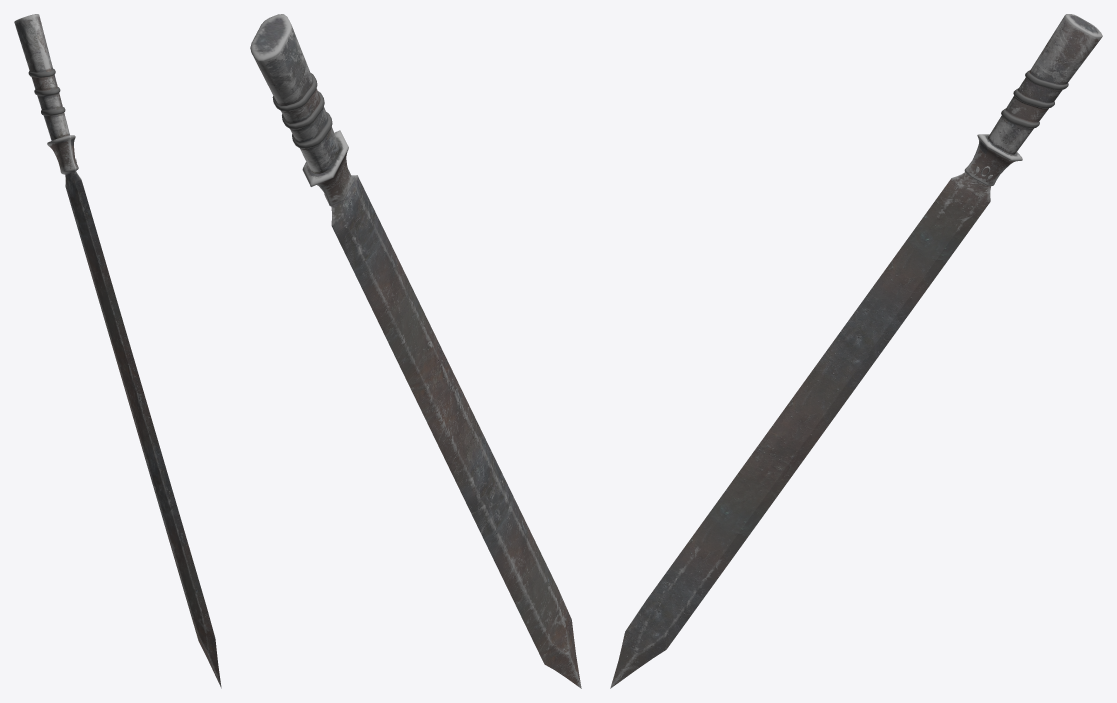
Rendered from Sword.fbx.
3 views of the same model, side by side, from view 1: azimuth 30°, elevation 25°; view 2: azimuth 150°, elevation 25°; view 3: azimuth 270°, elevation 25° (orthographic). The views are drawn at different scales.
Parts seen in each view (by area): view 1: Меч25; view 2: Меч25; view 3: Меч25.
Boxes of the visible parts, x1,y1,x2,y2 form: Меч25: (14, 14, 221, 688); Меч25: (250, 14, 581, 688); Меч25: (610, 14, 1102, 688).
Bounding box in the file's own units: 0.0927 × 2.5 × 1.66.
